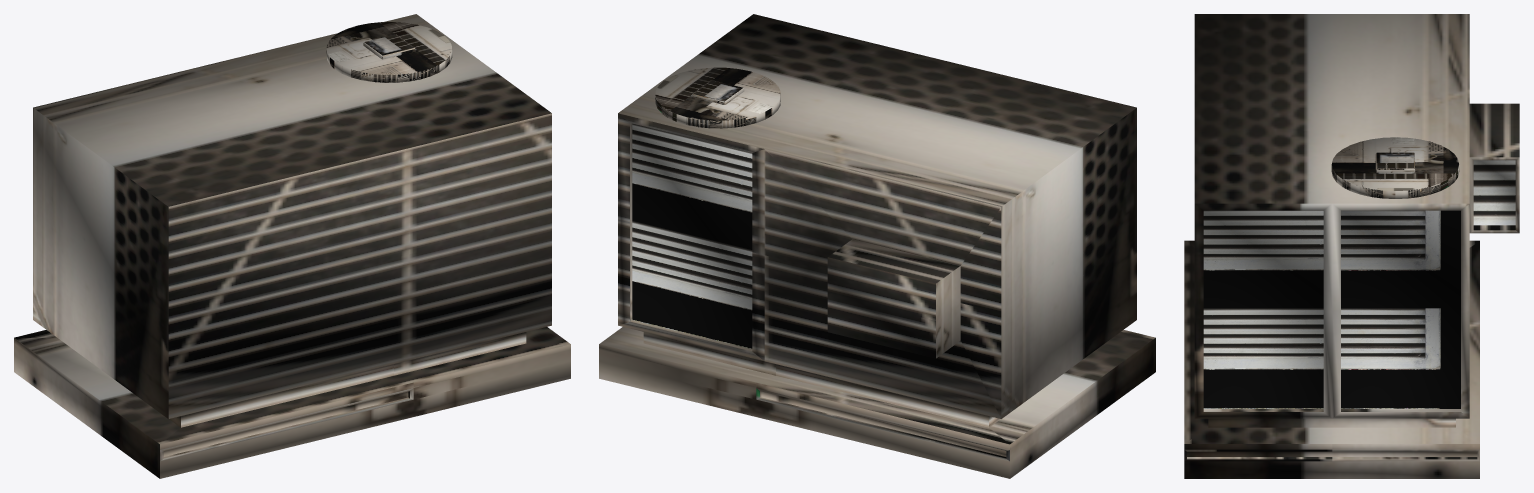
3 views of the same model, side by side, from view 1: azimuth 30°, elevation 25°; view 2: azimuth 150°, elevation 25°; view 3: azimuth 270°, elevation 25° (orthographic).
Visible parts, largest first — view 1: AC Box 1; view 2: AC Box 1; view 3: AC Box 1.
Part boxes in pixels (<box>): AC Box 1: <box>14,14,570,478</box>; AC Box 1: <box>599,14,1155,478</box>; AC Box 1: <box>1184,14,1519,478</box>.
Size of the model in its own units: 2.29 by 1.47 by 1.6.
Materials: 2 (2 with a texture image).
